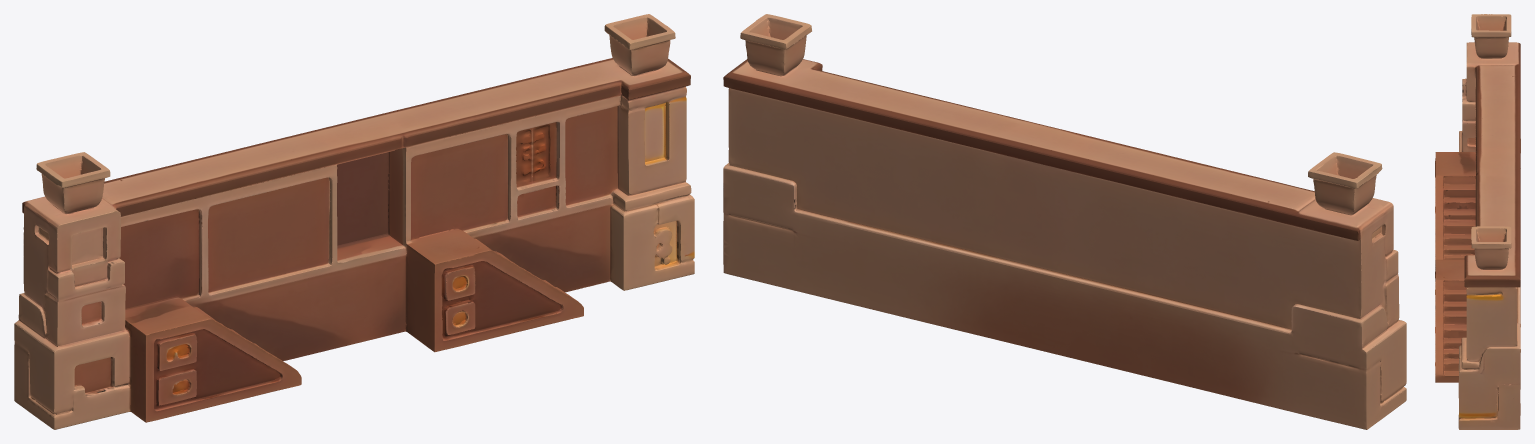
3 renders of one model, left to right at view 1: azimuth 30°, elevation 25°; view 2: azimuth 150°, elevation 25°; view 3: azimuth 270°, elevation 25°, orthographic. The views are drawn at different scales.
Parts seen in each view (by area): view 1: model; view 2: model; view 3: model.
Part boxes in pixels (x1,y1,x2,y2): model: (14, 14, 694, 429); model: (723, 14, 1406, 429); model: (1435, 14, 1520, 429).
Size of the model in its own units: 1.76 by 0.6253 by 0.2664.
Materials: 1 (1 with a texture image).
